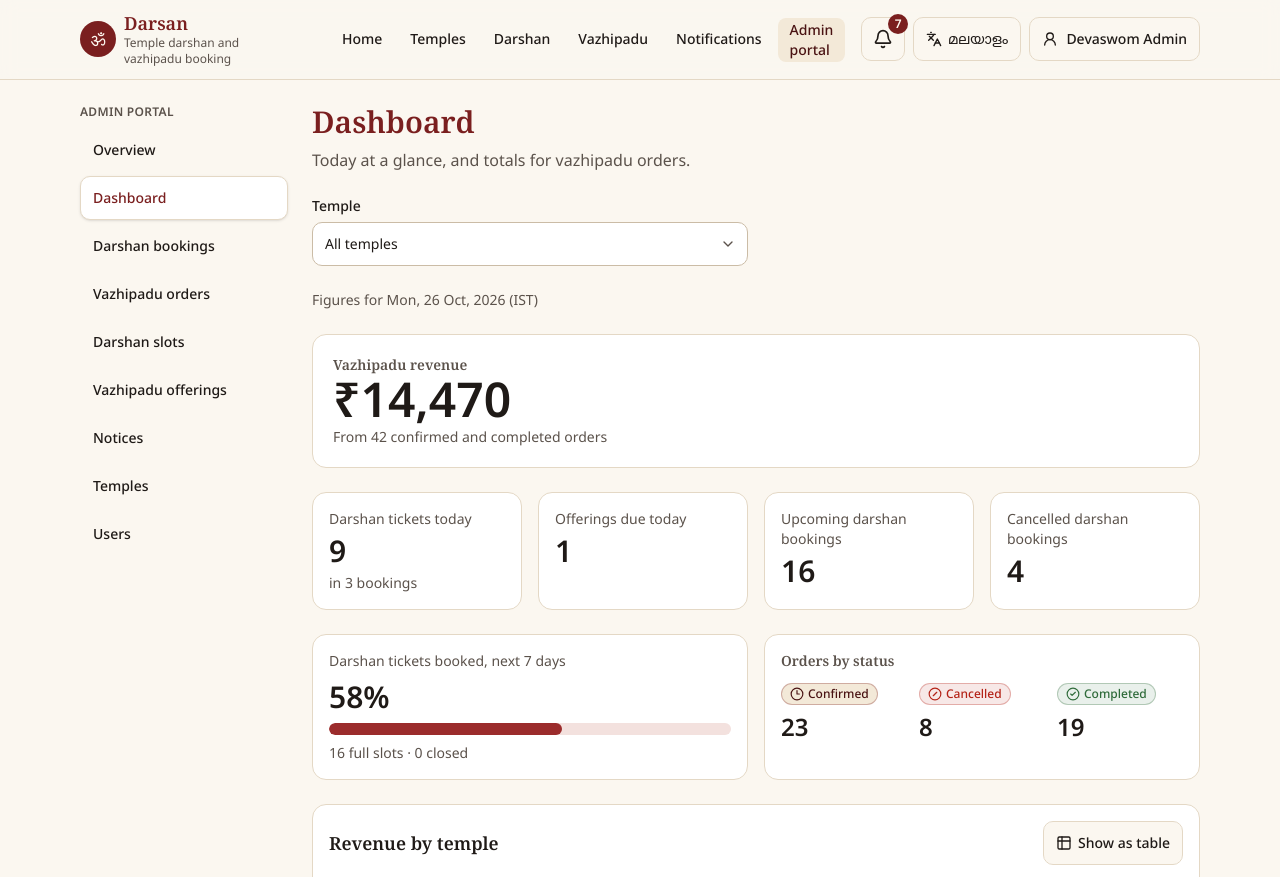
Test: Dashboard › leads with revenue and offers a table view of revenue by temple
expect the element named "Darshan tickets booked, next 7 days" below "58" is shown: met, box 329,722 -> 731,734
What coordinates should you click on to do the following:
click the button "Show as table"
I would click on:
 (1113, 842)
Its box is 1043,820 -> 1183,864.
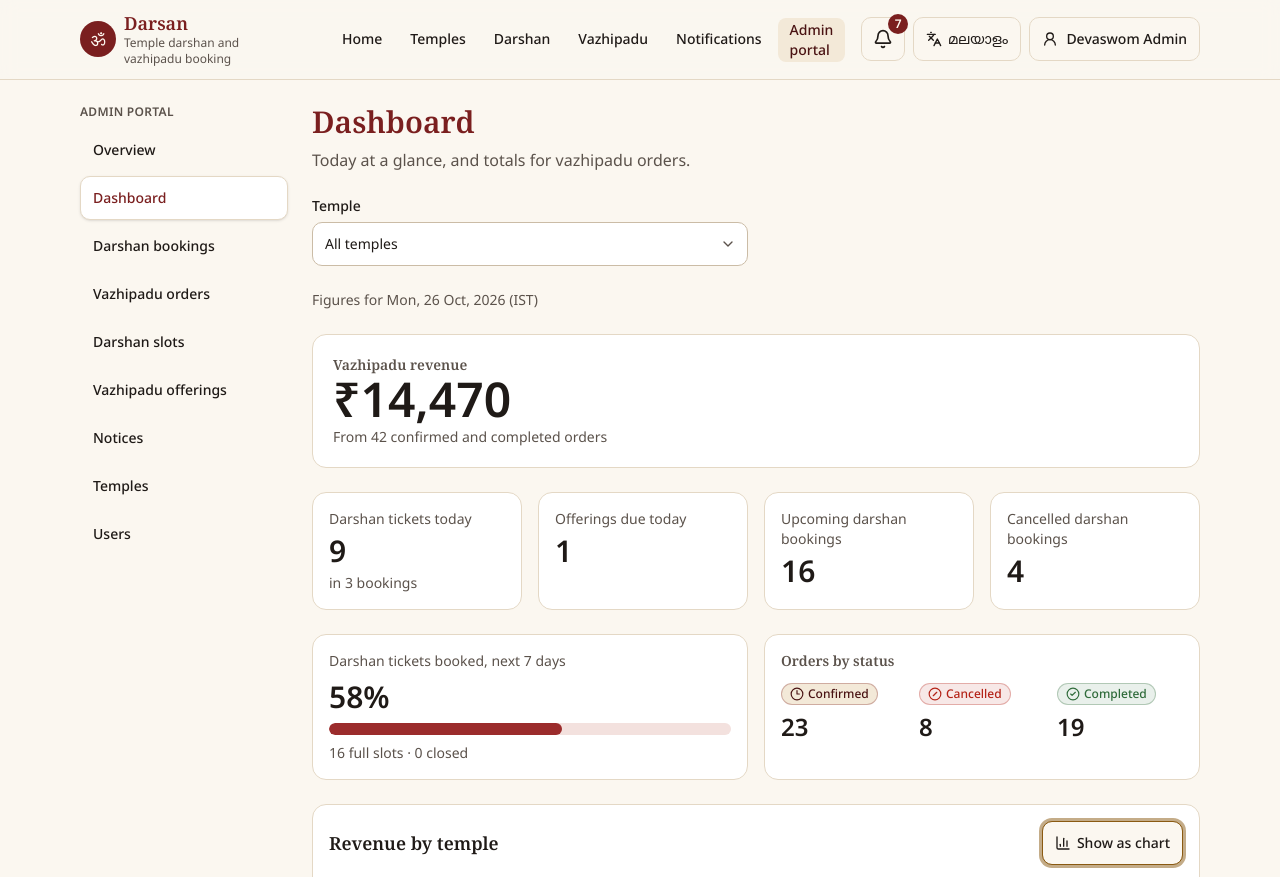
expect the number of rows is 4: met
